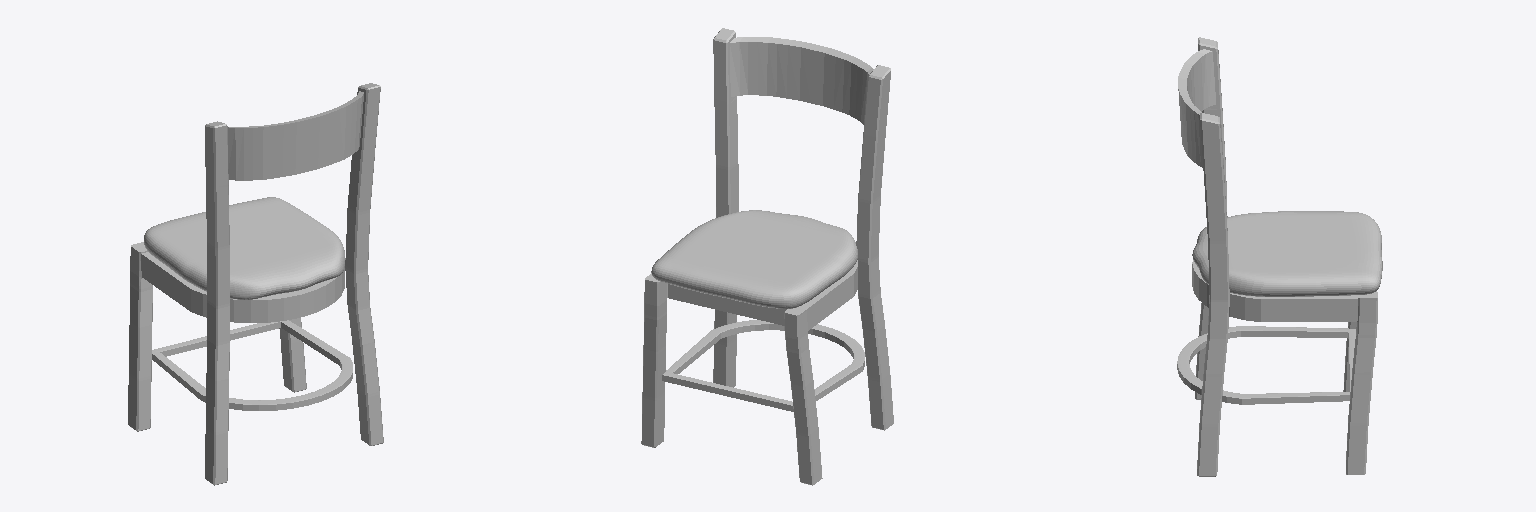
Rendered from smallerChair.obj.
3 views of the same model, side by side, from view 1: azimuth 30°, elevation 25°; view 2: azimuth 150°, elevation 25°; view 3: azimuth 270°, elevation 25° (orthographic).
Parts seen in each view (by area): view 1: Cube.004; view 2: Cube.004; view 3: Cube.004.
Part boxes in pixels (bbox=[...]): Cube.004: bbox=[128, 83, 383, 485]; Cube.004: bbox=[641, 28, 893, 485]; Cube.004: bbox=[1177, 37, 1382, 476].
Bounding box in the file's own units: 0.4744 × 0.9282 × 0.4834.